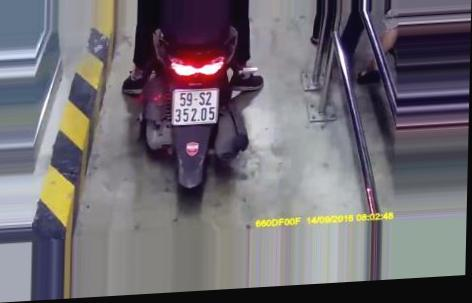License_Plate: (166, 85, 225, 129)
